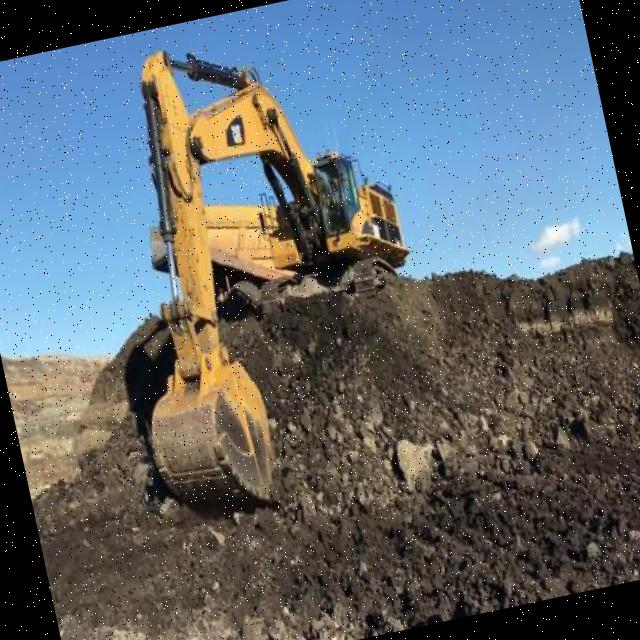Dump Truck: (139, 181, 277, 310)
Excavator: (67, 0, 457, 527)
